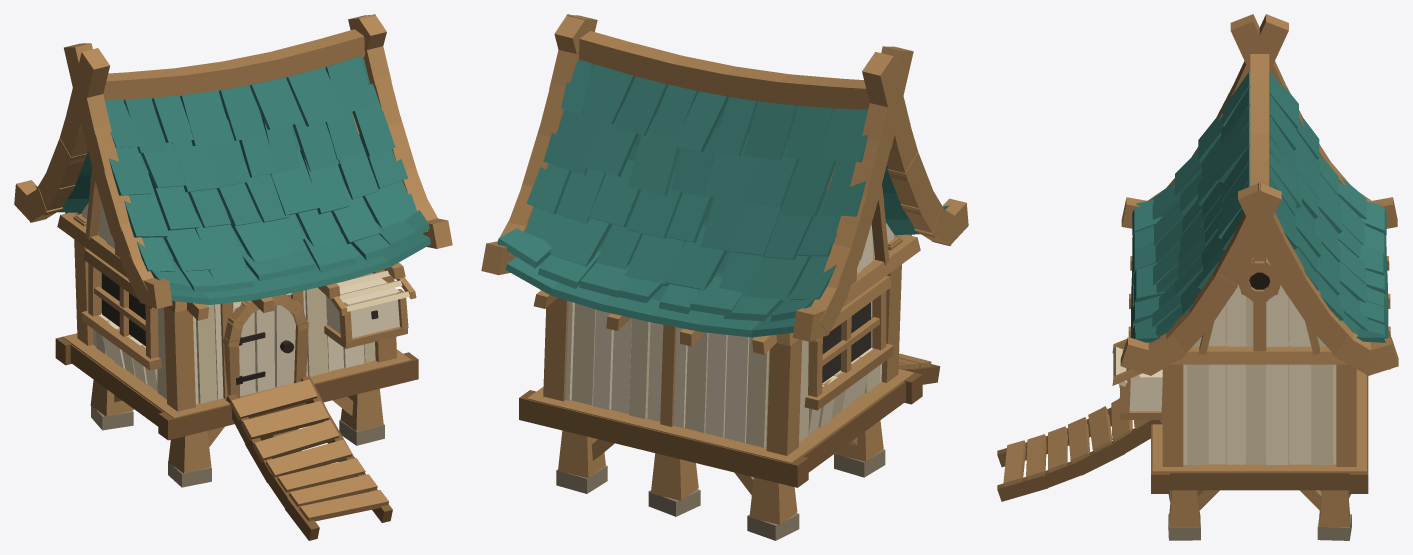
The model's file is chicken-coop-charming.glb.
3 renders of one model, left to right at view 1: azimuth 30°, elevation 25°; view 2: azimuth 150°, elevation 25°; view 3: azimuth 270°, elevation 25°, orthographic. The views are drawn at different scales.
Visible parts, largest first — view 1: roof_shingles, roof_timbers, trim, ramp, floor_frame, plank_walls_shade, legs, door, plank_walls, timber_frame, floor_deck, nest_box (+5 smaller); view 2: roof_shingles, roof_timbers, trim, plank_walls, floor_frame, plank_walls_shade, legs, timber_frame, floor_deck, stone_shoes, mesh; view 3: roof_shingles, roof_timbers, plank_walls, plank_walls_shade, trim, ramp, floor_frame, timber_frame, floor_deck, ramp_rails, legs, nest_box (+1 smaller).
Boxes of the visible parts, left/top/right/bottom form: roof_shingles: left=35, top=56, right=430, bottom=304; roof_timbers: left=14, top=14, right=452, bottom=308; trim: left=73, top=112, right=416, bottom=411; ramp: left=229, top=379, right=388, bottom=521; floor_frame: left=55, top=336, right=418, bottom=440; plank_walls_shade: left=96, top=272, right=375, bottom=403; legs: left=90, top=380, right=383, bottom=473; door: left=239, top=305, right=295, bottom=396; plank_walls: left=82, top=202, right=364, bottom=404; timber_frame: left=57, top=210, right=405, bottom=399; floor_deck: left=63, top=333, right=411, bottom=418; nest_box: left=326, top=278, right=399, bottom=337; roof_shingles: left=497, top=59, right=949, bottom=337; roof_timbers: left=481, top=14, right=968, bottom=341; trim: left=543, top=161, right=902, bottom=455; plank_walls: left=565, top=223, right=894, bottom=447; floor_frame: left=519, top=372, right=922, bottom=487; plank_walls_shade: left=571, top=233, right=879, bottom=447; legs: left=558, top=420, right=883, bottom=524; timber_frame: left=533, top=234, right=920, bottom=426; floor_deck: left=527, top=369, right=914, bottom=463; stone_shoes: left=556, top=449, right=885, bottom=540; mesh: left=822, top=302, right=871, bottom=383; roof_shingles: left=1131, top=72, right=1388, bottom=342; roof_timbers: left=1120, top=14, right=1398, bottom=375; plank_walls: left=1183, top=258, right=1336, bottom=464; plank_walls_shade: left=1187, top=257, right=1332, bottom=464; trim: left=1112, top=259, right=1356, bottom=466; ramp: left=1003, top=398, right=1150, bottom=486; floor_frame: left=1151, top=375, right=1368, bottom=493; timber_frame: left=1128, top=245, right=1390, bottom=369; floor_deck: left=1152, top=369, right=1366, bottom=472; ramp_rails: left=997, top=407, right=1162, bottom=501; legs: left=1169, top=490, right=1349, bottom=526; nest_box: left=1125, top=368, right=1162, bottom=411.
Size of the model in its own units: 2.33 by 3.06 by 2.76.
